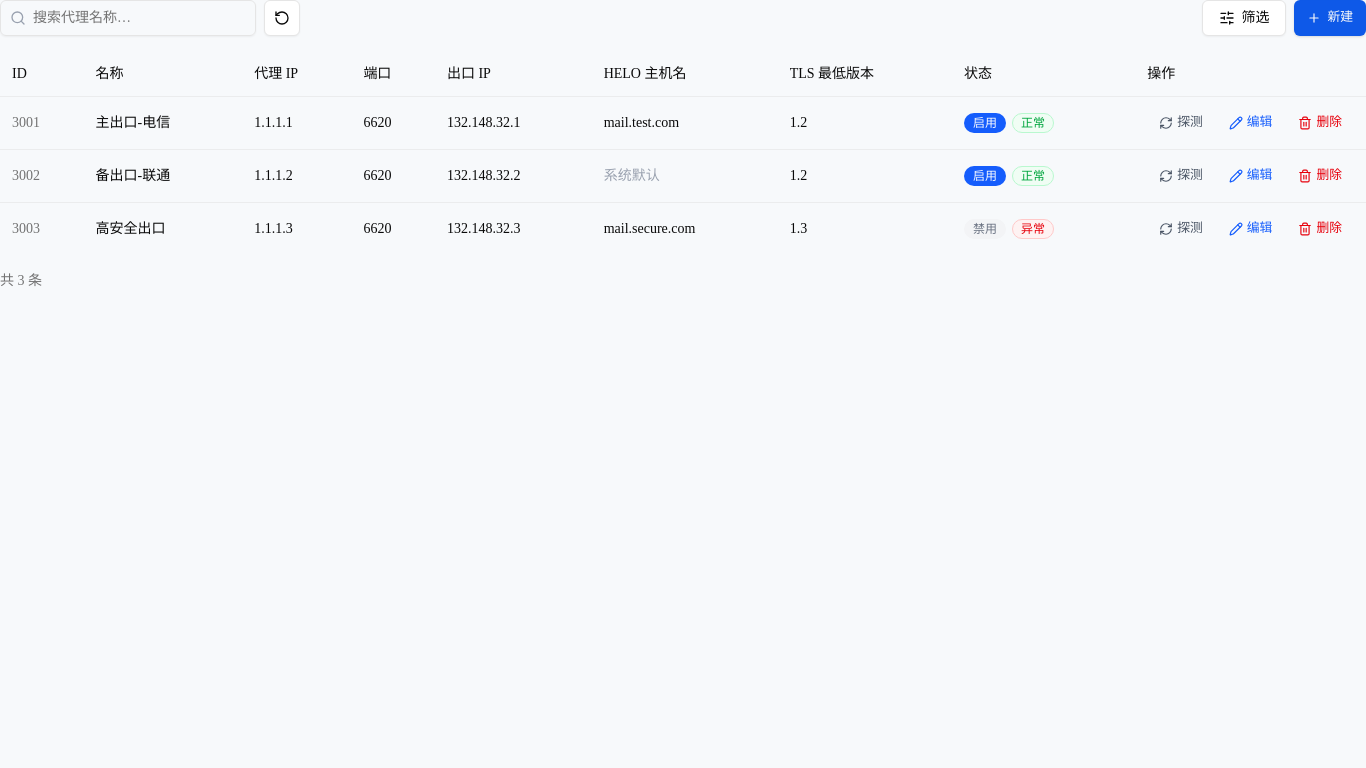
Test: ProxyStep › delete confirmation shows the channel auto-evict copy verbatim and removes the row
Click the button with test id "mr-ob-proxy-delete-3001". click: (1320, 122)
box: [1286,108,1354,136]
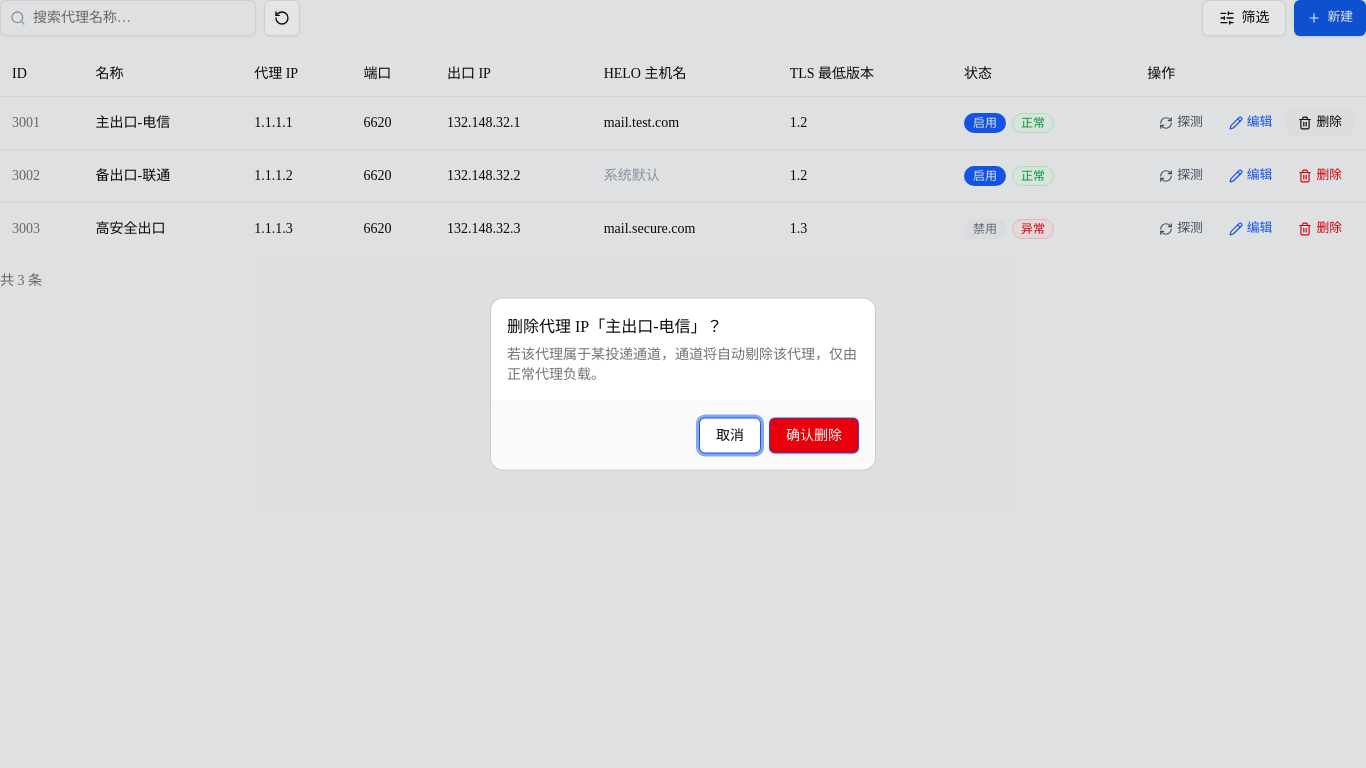
Expected: the heading "删除代理 IP「主出口-电信」？" is shown, [507,314,723,338]
Expected: the text "若该代理属于某投递通道，通道将自动剔除该代理，仅由正常代理负载。" is shown, [507,344,859,384]
Click the button with test id "mr-ob-proxy-delete-confirm". click: (814, 436)
box: [769,418,859,454]
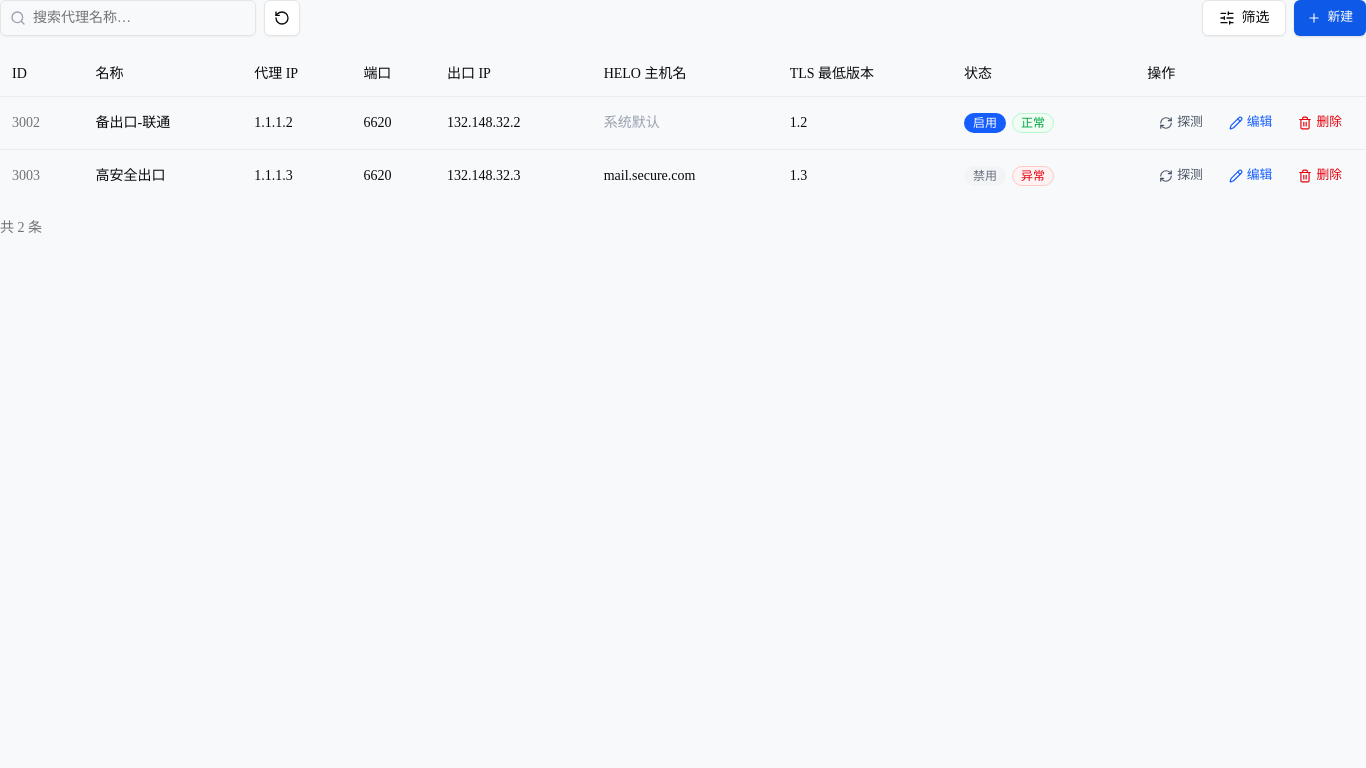
Expected: the row with test id "mr-ob-proxy-row-3001" is gone
